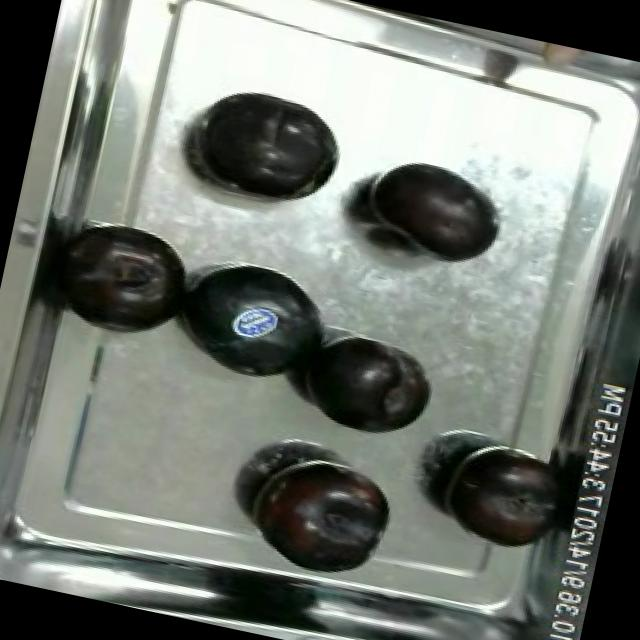Fruit: (165, 246, 348, 398), (234, 442, 407, 589), (186, 74, 354, 215), (349, 144, 516, 276), (424, 428, 580, 566), (290, 322, 448, 451), (66, 216, 200, 345)
